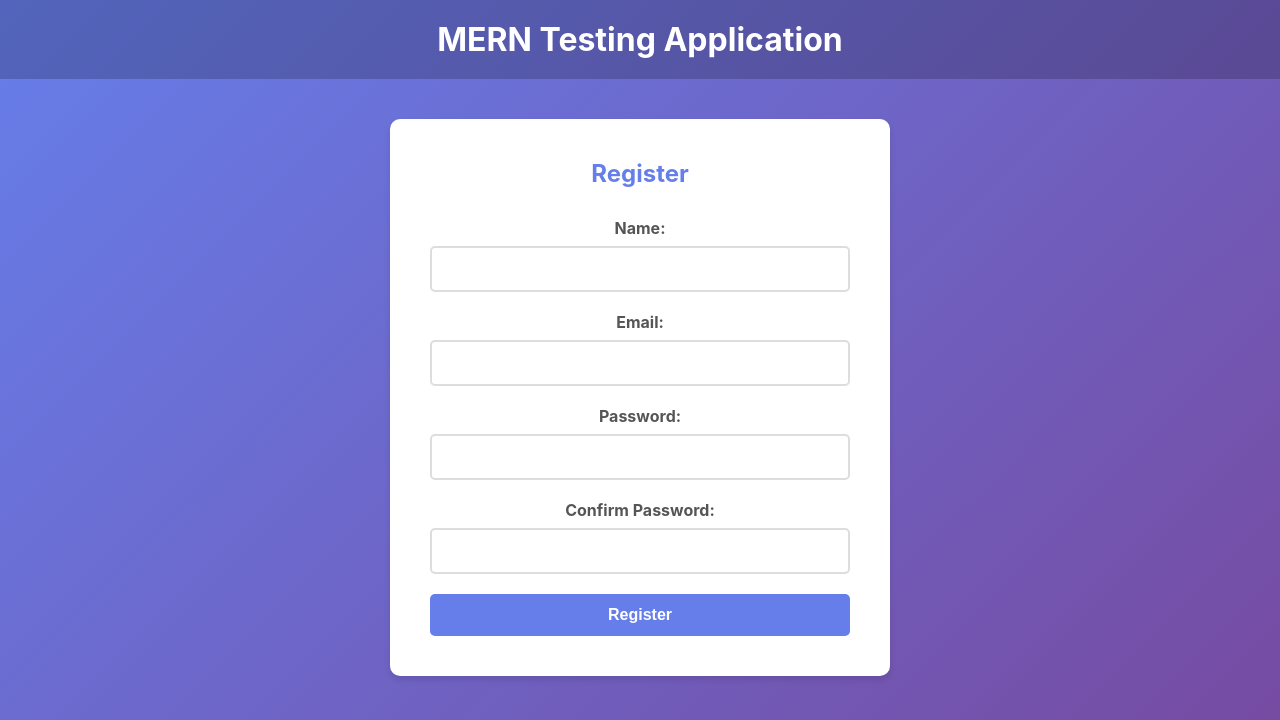
Test case: Authentication E2E Tests › Registration Flow › should show error for password mismatch
Type "Test User" into the field with test id "name-input" at (640, 269), box [430, 246, 850, 292]
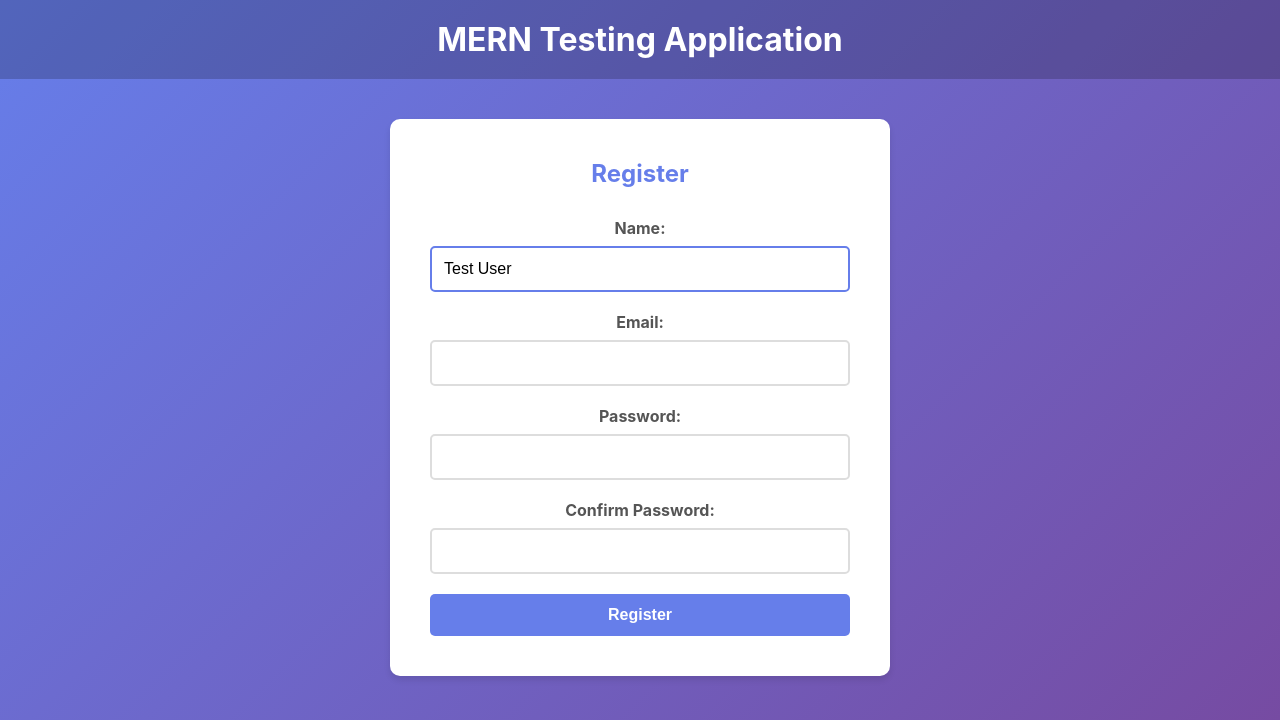
Type "test@example.com" into the field with test id "email-input" at (640, 363), box [430, 340, 850, 386]
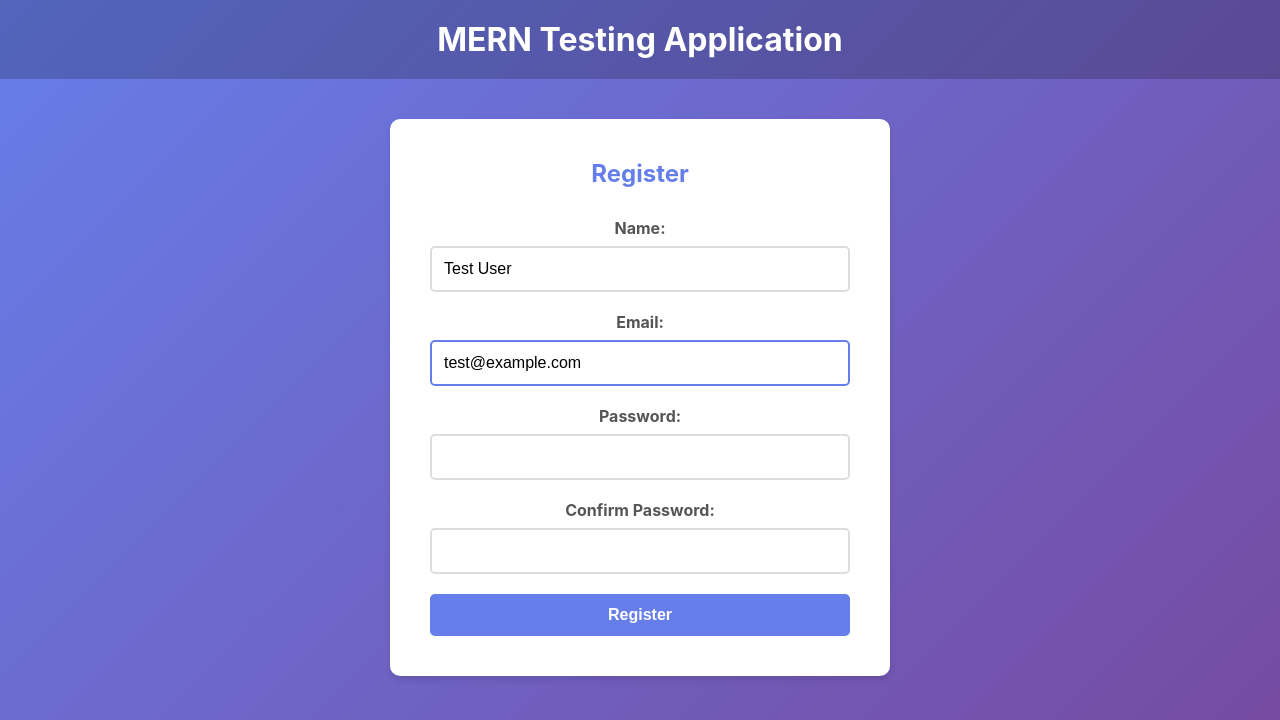
Type "password123" into the password field with test id "password-input" at (640, 457), box [430, 434, 850, 480]
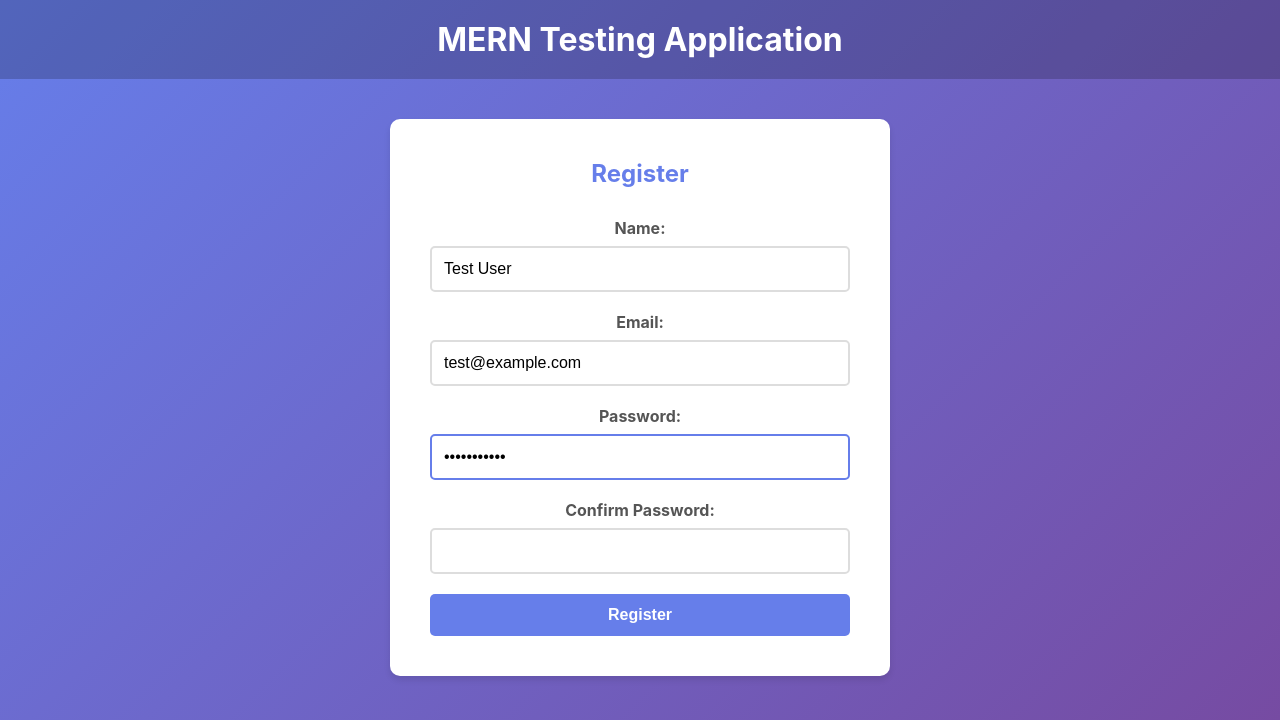
Type "differentpassword" into the password field with test id "confirm-password-input" at (640, 551), box [430, 528, 850, 574]
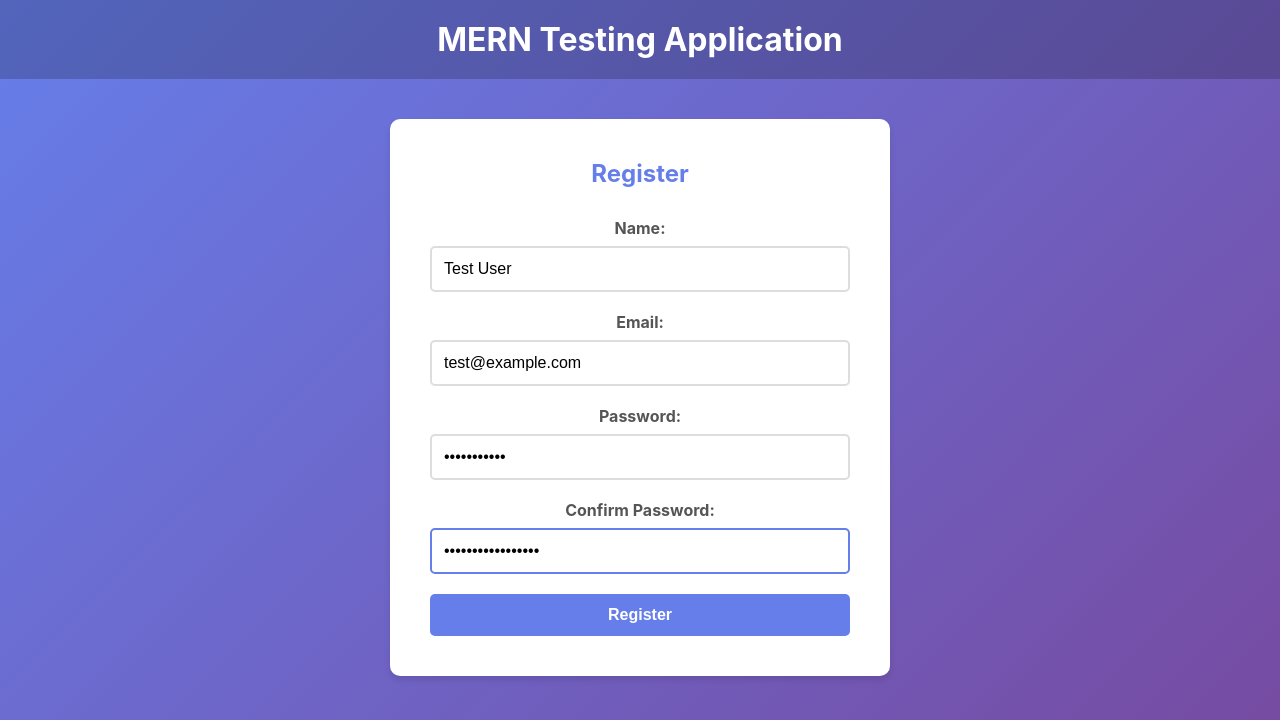
Click the button with test id "submit-button" at (640, 615), box [430, 594, 850, 636]
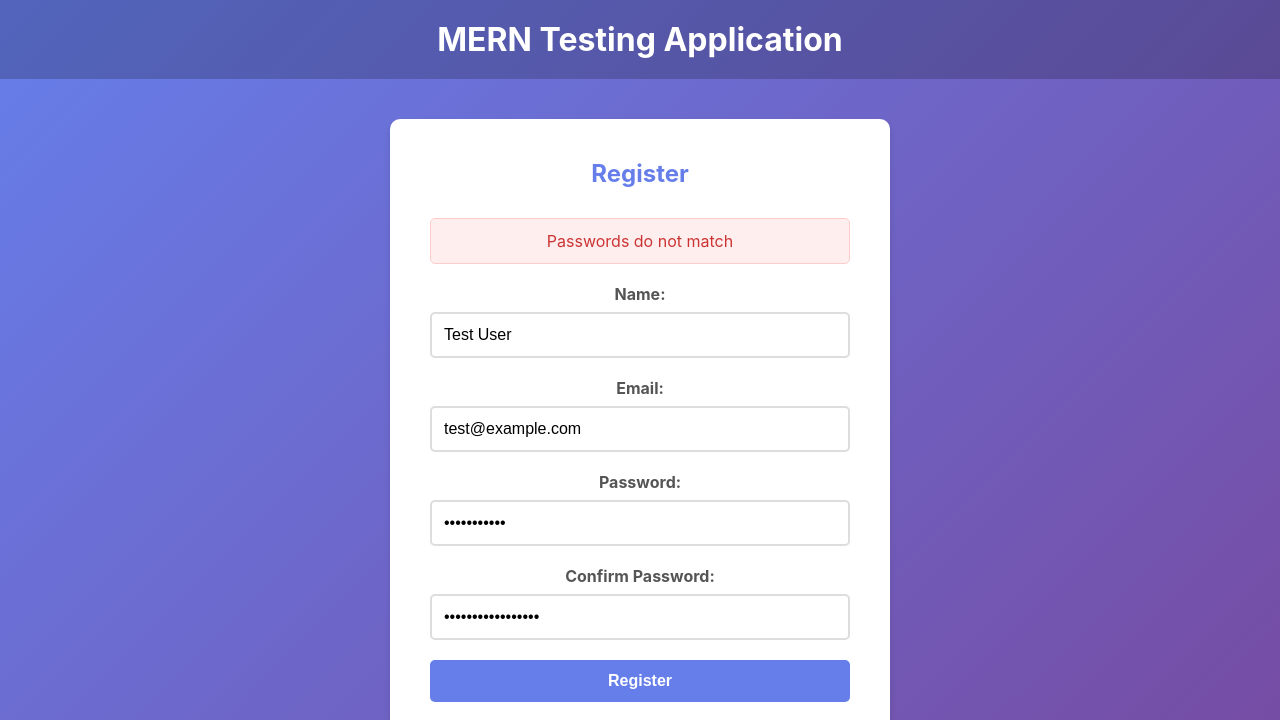
Expected: the text "Passwords do not match" is shown, [430, 218, 850, 264]
